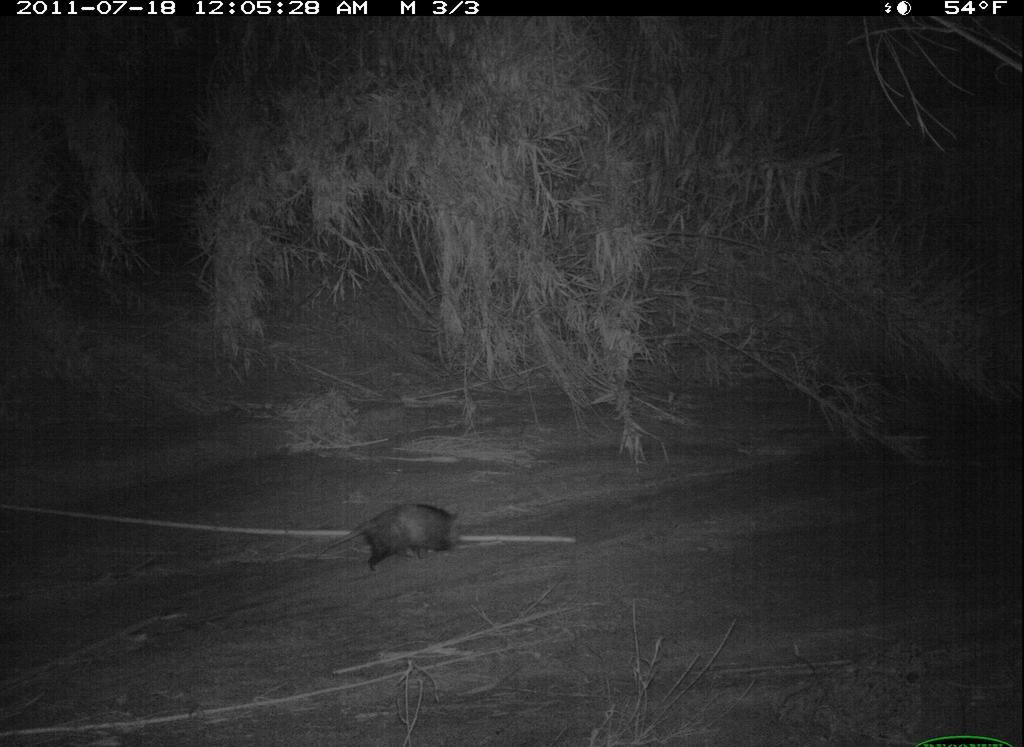opossum: (310, 482, 488, 607)
